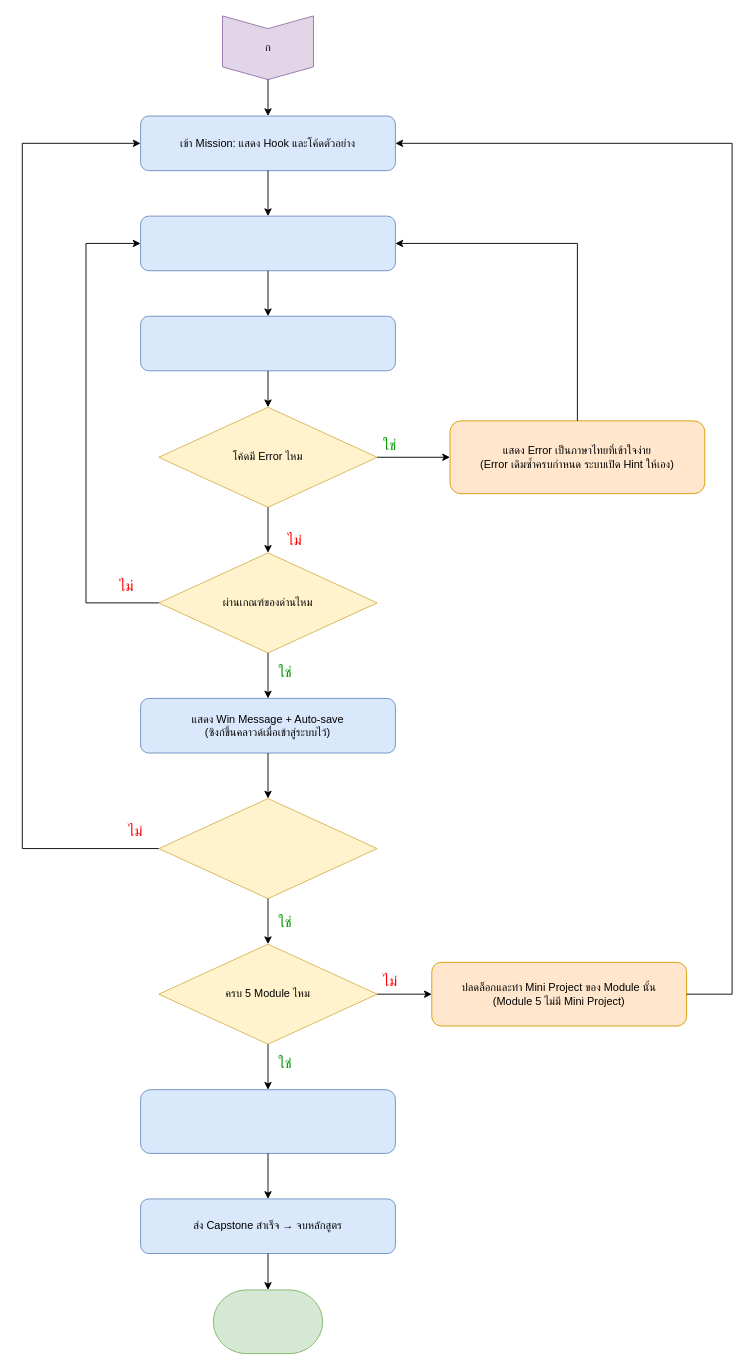
This 755x1370 diagram has some shape labels left out. The box of each missing label's shape, as (x1, y1, x2, y2) in pixels:
กด Run: (140, 315, 395, 371)
ครบ 3 Mission ใน Module นี้ไหม: (158, 798, 377, 899)
ปลดล็อก Capstone → เลือกหัวข้อเอง เขียนโปรแกรมจริง (มี Hint / หัวข้อตัวอย่าง): (140, 1089, 395, 1153)
ผู้เรียนแก้โค้ด / ทำ Task: (140, 215, 395, 271)
สิ้นสุด: (212, 1289, 323, 1354)
